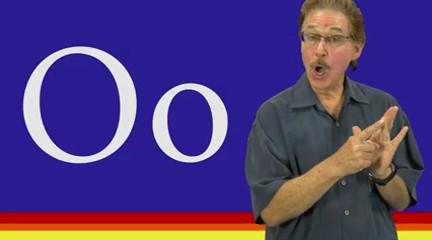O: (327, 102, 410, 181)
